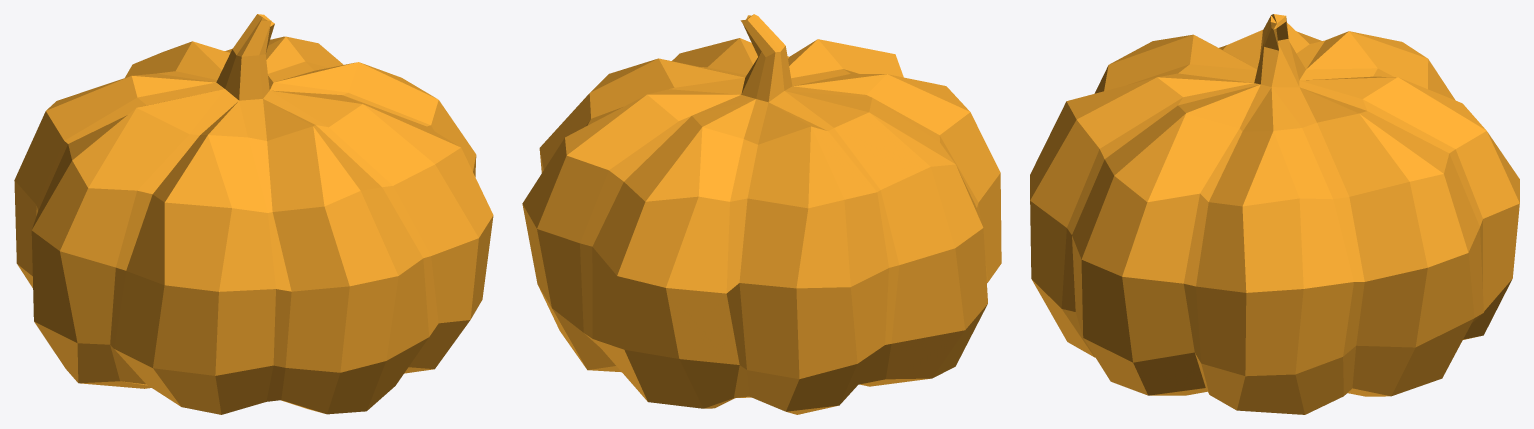
The model's file is SM_Pumpkin_B.fbx.
The picture shows the model from 3 angles, left to right: view 1: azimuth 30°, elevation 25°; view 2: azimuth 150°, elevation 25°; view 3: azimuth 270°, elevation 25°; orthographic projection. The views are drawn at different scales.
Parts seen in each view (by area): view 1: pumpkin-b; view 2: pumpkin-b; view 3: pumpkin-b.
Boxes of the visible parts, bbox=[...] form: pumpkin-b: bbox=[14, 14, 493, 414]; pumpkin-b: bbox=[522, 14, 1001, 414]; pumpkin-b: bbox=[1030, 14, 1519, 414].
Size of the model in its own units: 0.593 by 0.4666 by 0.5876.
